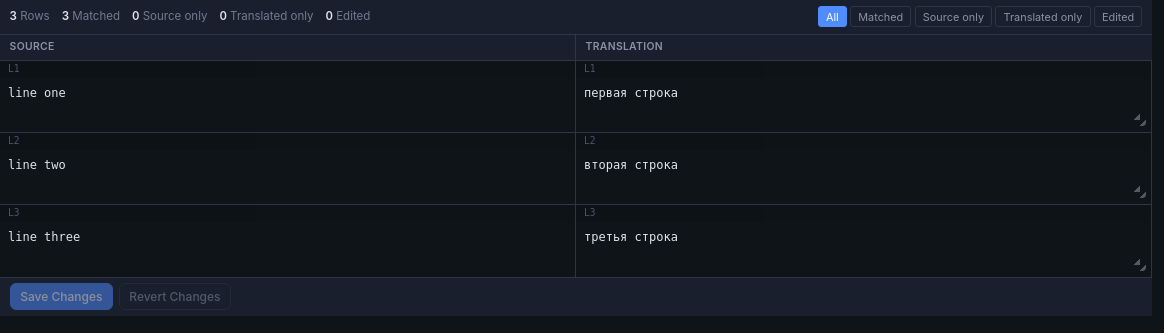
Scenario: PairLineEditorPanel › filters › shows rows matching the edited filter
// Edit one row
Replace the text in the text box in the row of "line one" with "modified". click: {"x": 864, "y": 105}
box: [576,78,1151,132]
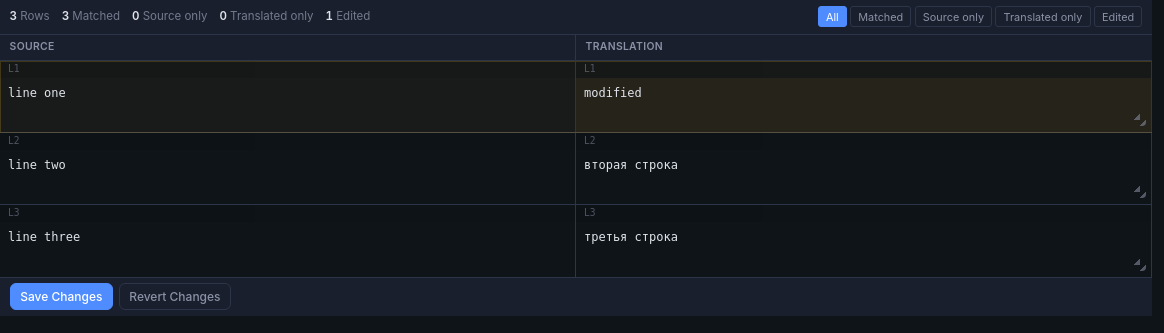
// Switch to Edited filter
Click the button "Edited". click: {"x": 1118, "y": 17}
box: [1094,6,1142,27]
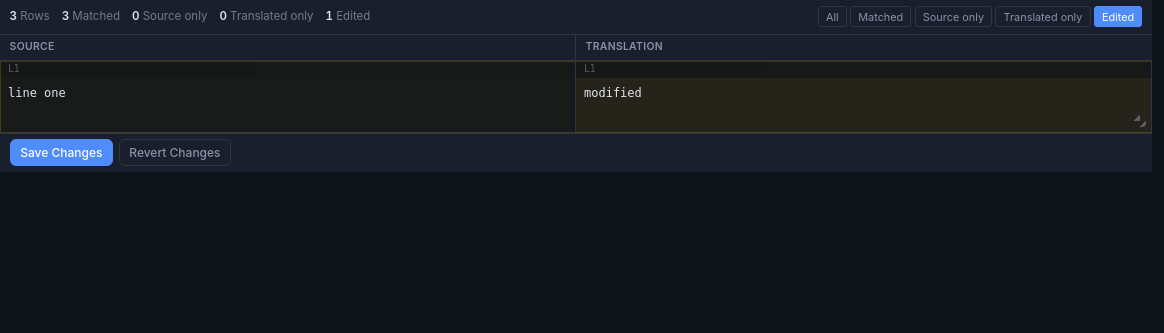
Expected: the text "L1" is shown 2 times, [8,62,20,77]; [584,62,596,77]
